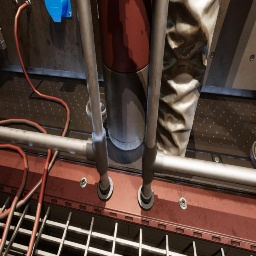NitrogenTank ,: (96, 0, 153, 151)
